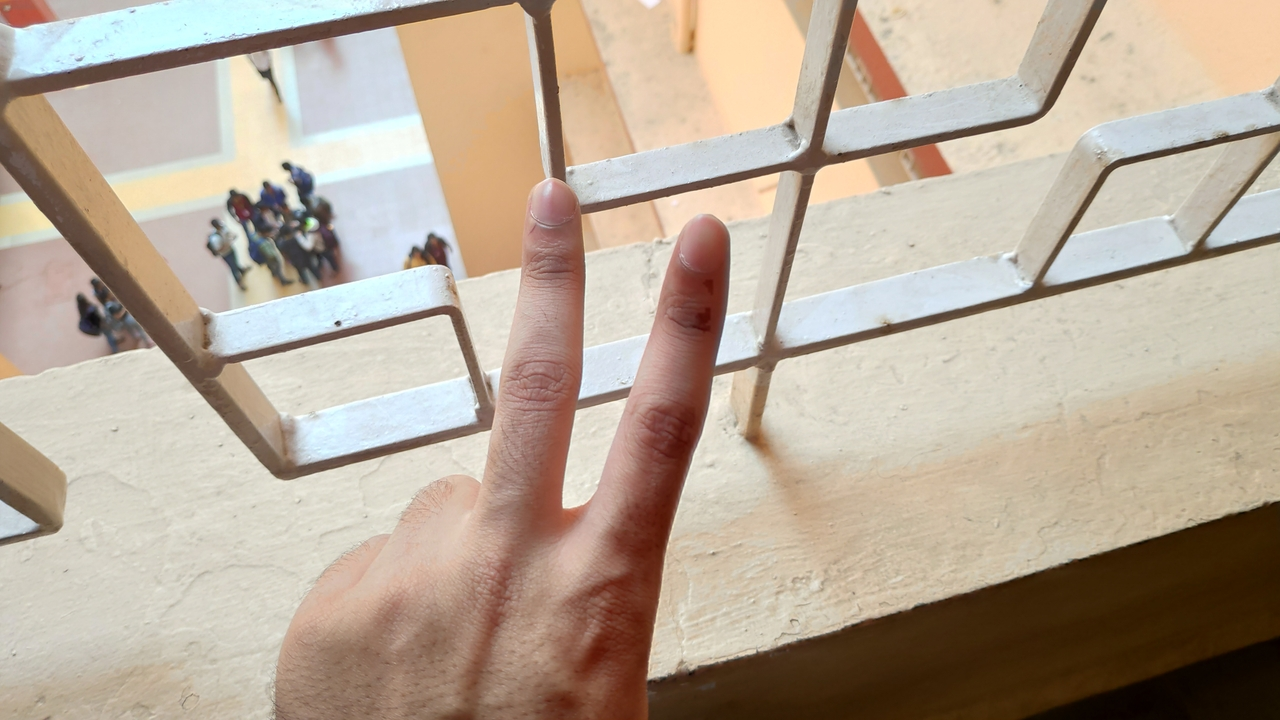fingertip: (516, 170, 582, 236), (668, 210, 730, 274)
